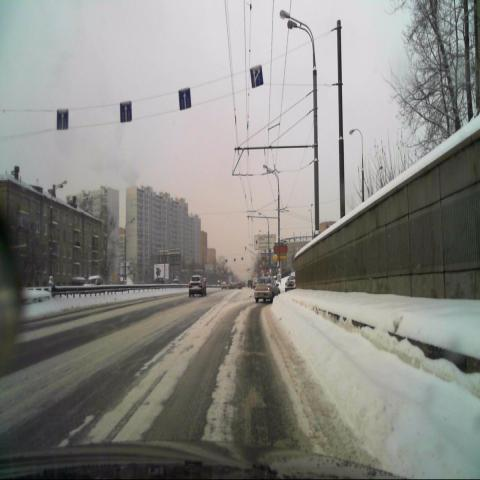5_15_2: (250, 65, 264, 89)
